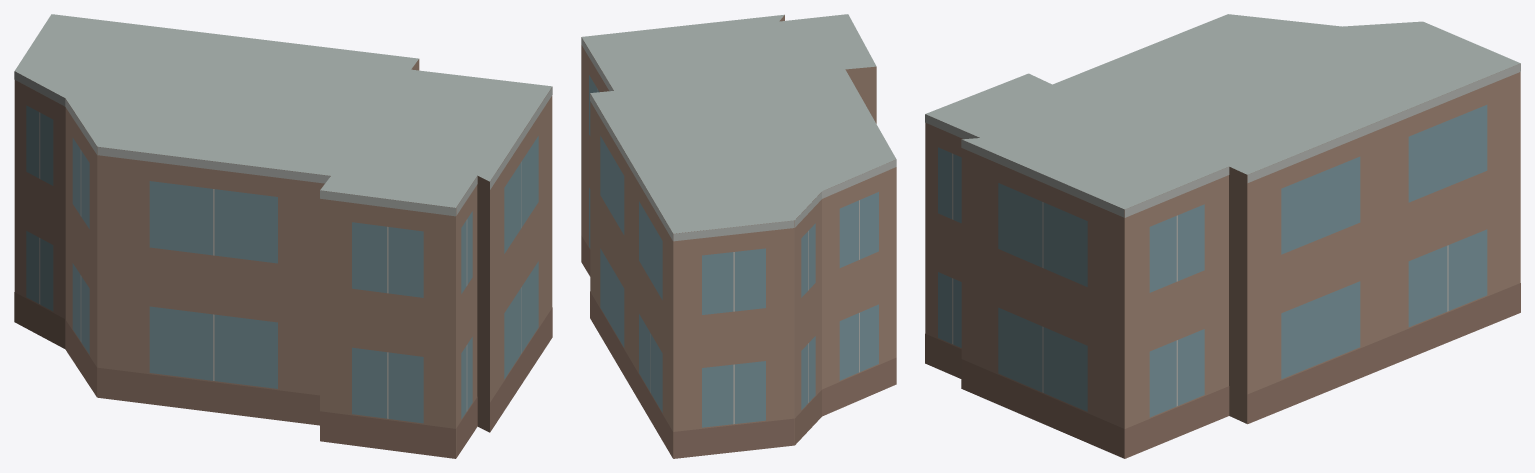
The model's file is survey-upis-32516494.glb.
3 renders of one model, left to right at view 1: azimuth 30°, elevation 25°; view 2: azimuth 150°, elevation 25°; view 3: azimuth 270°, elevation 25°, orthographic. The views are drawn at different scales.
Visible parts, largest first — view 1: survey-upis-32516494.tmp; view 2: survey-upis-32516494.tmp; view 3: survey-upis-32516494.tmp.
Boxes of the visible parts, <box> form: survey-upis-32516494.tmp: <box>14,14,552,458</box>; survey-upis-32516494.tmp: <box>581,14,896,458</box>; survey-upis-32516494.tmp: <box>925,14,1520,458</box>.
Bounding box in the file's own units: 12.11 × 7.2 × 15.6.
